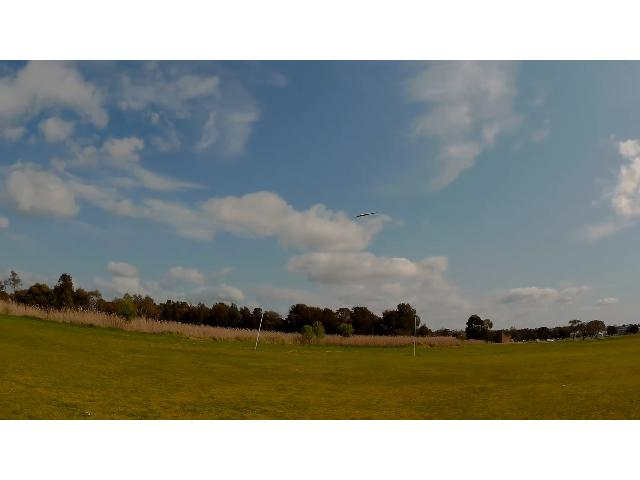Anti-Drone: (354, 211, 378, 218)
